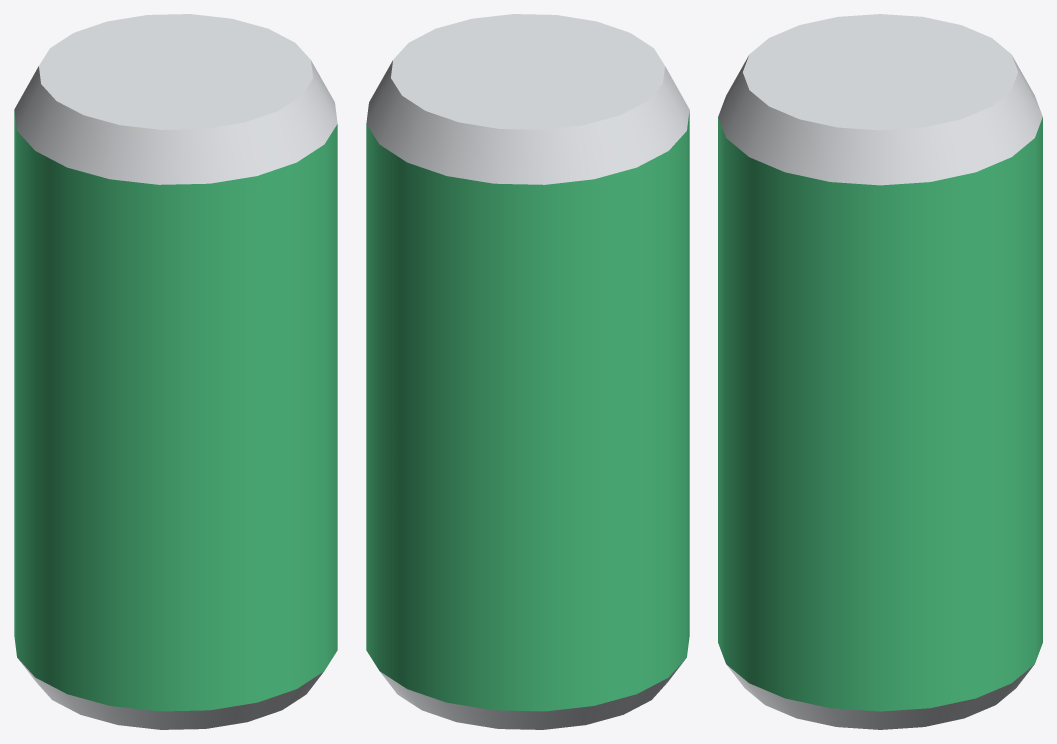
The model's file is Energy Drink.fbx.
3 views of the same model, side by side, from view 1: azimuth 30°, elevation 25°; view 2: azimuth 150°, elevation 25°; view 3: azimuth 270°, elevation 25° (orthographic).
Parts seen in each view (by area): view 1: Energy Drink; view 2: Energy Drink; view 3: Energy Drink.
Boxes of the visible parts, box(x1,y1,x2,y2) form: Energy Drink: box(14, 14, 337, 729); Energy Drink: box(366, 14, 689, 729); Energy Drink: box(718, 14, 1042, 729).
Bounding box in the file's own units: 0.066 × 0.134 × 0.066.
